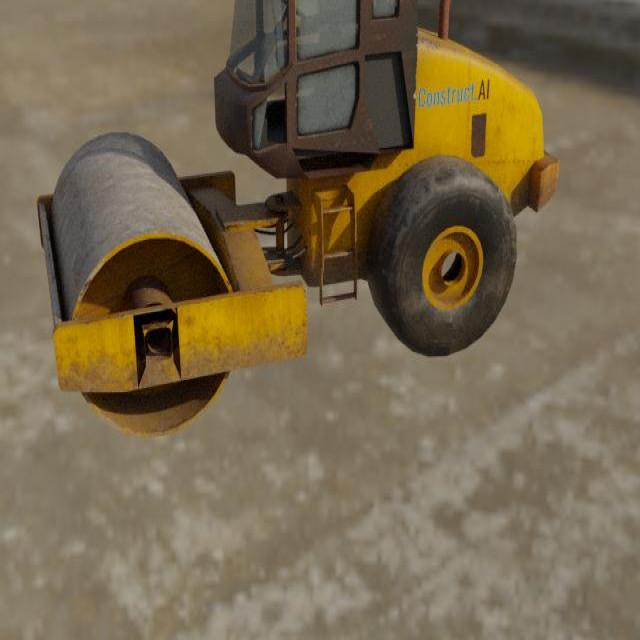Roller: (36, 0, 560, 439)
